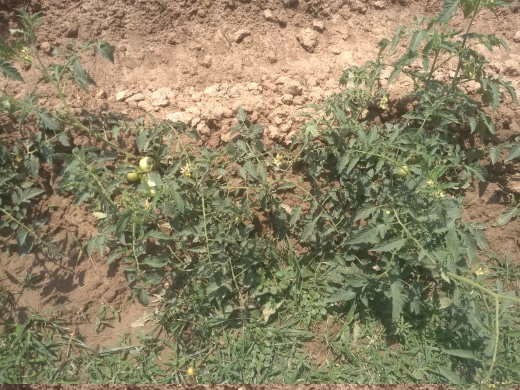tomato: (132, 150, 159, 174), (394, 164, 410, 176), (125, 164, 136, 179)
tomato flower: (473, 262, 491, 280), (434, 190, 446, 200)
tomato plant: (31, 101, 268, 334), (275, 60, 487, 308)
